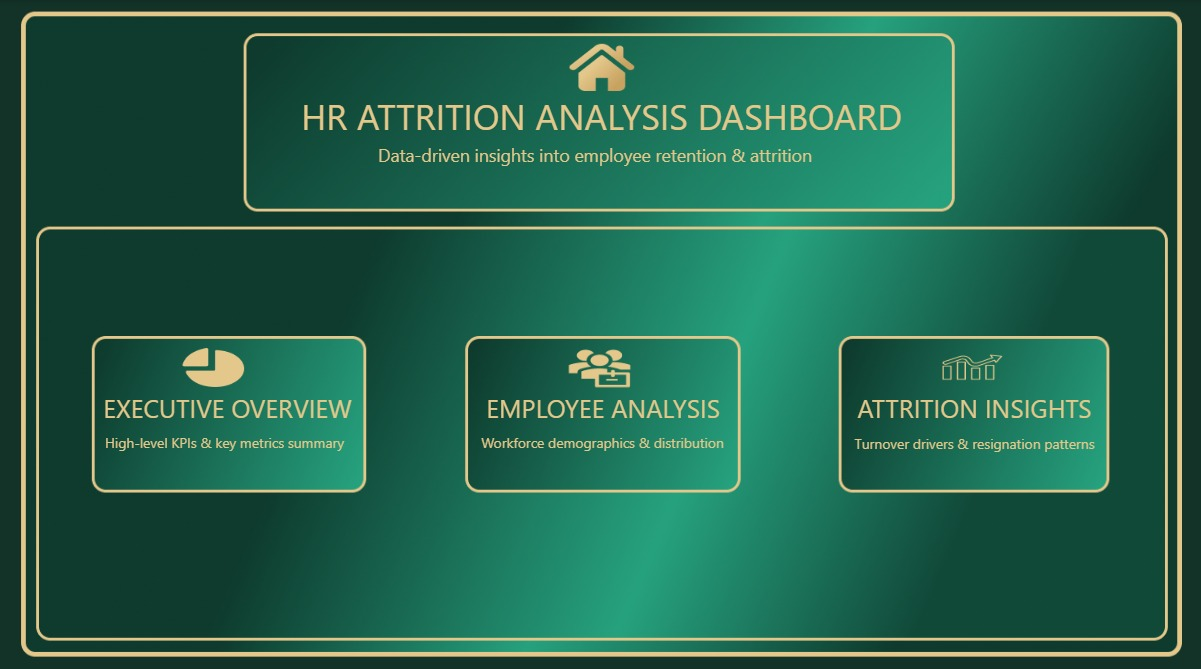

Layout of this report page (visuals, bound fields, positions):
{"tool":"powerbi","page":{"name":"home","canvas":[1280,720],"ordinal":0},"visuals":[{"type":"textbox","box":[281.5,92.3,717.4,77.9],"z":0},{"type":"image","box":[606,31.8,68.4,79.5],"z":1000},{"type":"textbox","box":[106.6,408.8,279.9,73.2],"z":2000},{"type":"textbox","box":[501,408.8,281.5,73.2],"z":3000},{"type":"textbox","box":[895.5,408.8,279.9,73.2],"z":4000},{"type":"image","box":[195.6,348.3,65.2,82.7],"z":5000},{"type":"image","box":[601.3,348.3,73.2,84.3],"z":6000},{"type":"image","box":[998.9,359.5,68.4,60.4],"z":7000},{"type":"textbox","box":[386.5,146.3,493.1,58.9],"z":8000},{"type":"textbox","box":[106.6,453.3,267.2,58.9],"z":9000},{"type":"textbox","box":[494.7,453.3,292.7,144.7],"z":9002},{"type":"textbox","box":[895.5,454.9,279.9,58.9],"z":9003},{"type":"actionButton","box":[106.6,359.5,267.2,154.3],"z":9004},{"type":"actionButton","box":[509,359.5,267.2,154.3],"z":9005},{"type":"actionButton","box":[901.9,361.1,267.2,154.3],"z":9006}]}

Visuals, with their boxes in screenshot pixels (x1, y1, x2, y2), scaled from the page's 1280x720 canvas onto the 1201x669 screenshot:
textbox: Rect(264, 86, 937, 158)
image: Rect(569, 30, 633, 103)
textbox: Rect(100, 380, 363, 448)
textbox: Rect(470, 380, 734, 448)
textbox: Rect(840, 380, 1103, 448)
image: Rect(184, 324, 245, 400)
image: Rect(564, 324, 633, 402)
image: Rect(937, 334, 1001, 390)
textbox: Rect(363, 136, 825, 191)
textbox: Rect(100, 421, 351, 476)
textbox: Rect(464, 421, 739, 556)
textbox: Rect(840, 423, 1103, 477)
actionButton: Rect(100, 334, 351, 477)
actionButton: Rect(478, 334, 728, 477)
actionButton: Rect(846, 336, 1097, 479)
